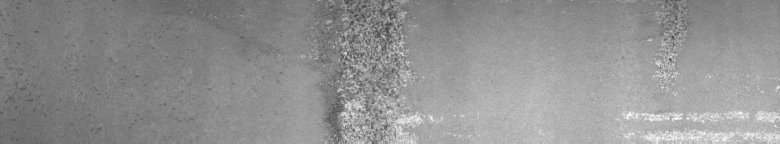hc: (304, 4, 443, 136)
